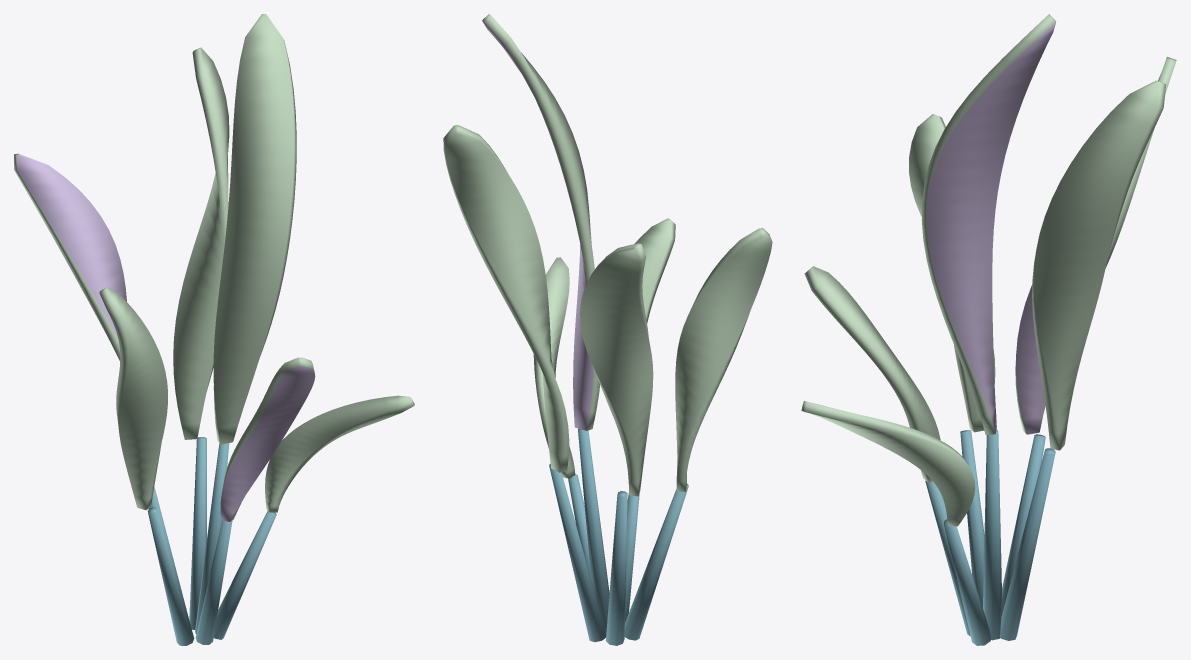
File: kelp_vol_0.glb
3 views of the same model, side by side, from view 1: azimuth 30°, elevation 25°; view 2: azimuth 150°, elevation 25°; view 3: azimuth 270°, elevation 25° (orthographic). The views are drawn at different scales.
Parts seen in each view (by area): view 1: kelp_vol_0; view 2: kelp_vol_0; view 3: kelp_vol_0.
Part boxes in pixels (bbox=[...]): kelp_vol_0: bbox=[14, 14, 414, 645]; kelp_vol_0: bbox=[443, 14, 772, 645]; kelp_vol_0: bbox=[801, 14, 1176, 645].
Size of the model in its own units: 1.65 by 3.58 by 1.82.
